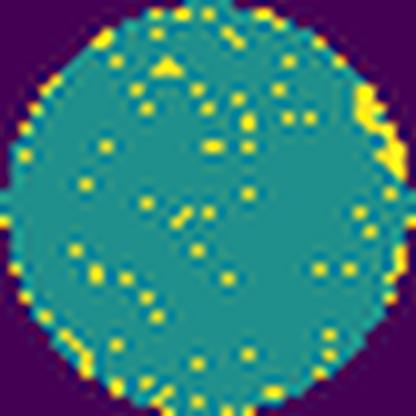Edge-Loc: (351, 79, 416, 185)
